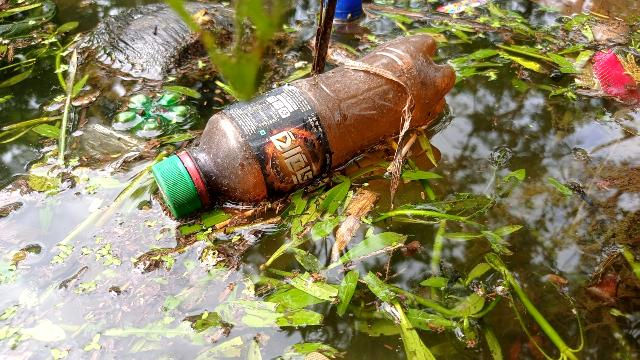bottle: (142, 18, 467, 237)
